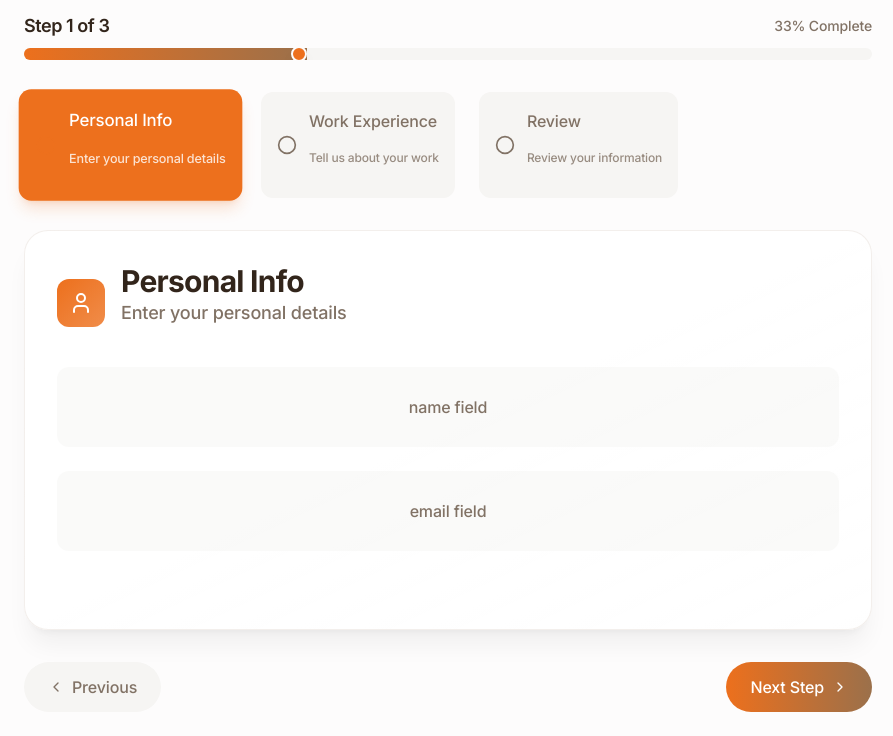
Test: EnhancedMultiStepForm › Progress Tracking › should update progress percentage when navigating steps
Expected: the text "33% Complete" is shown, [774,16,872,36]
Click the button "Next Step": {"x": 799, "y": 687} [726,662,872,712]
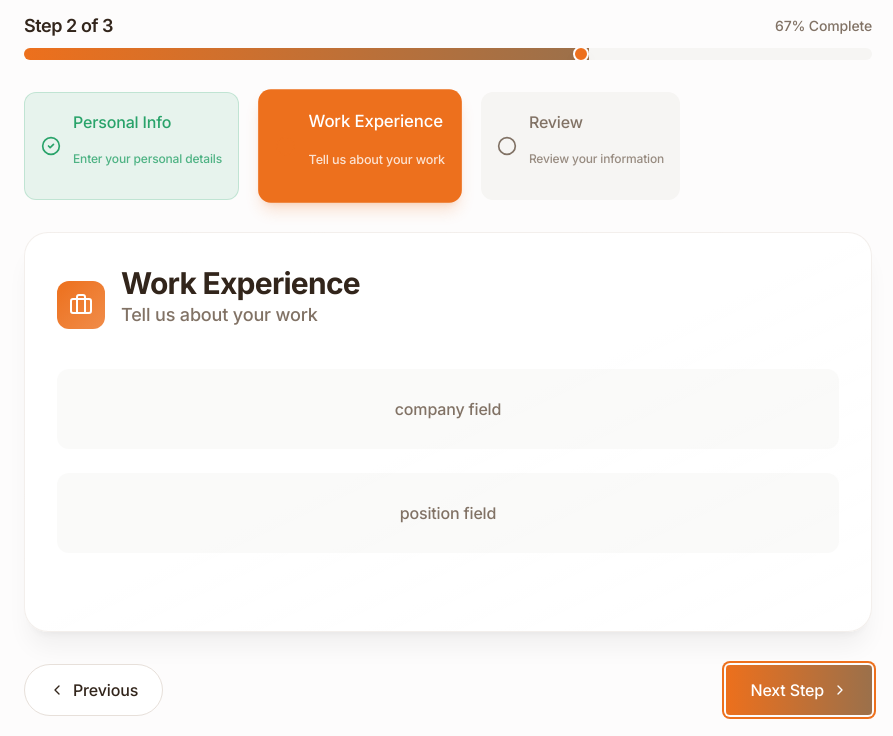
Expected: the text "67% Complete" is shown, [775,16,872,36]
